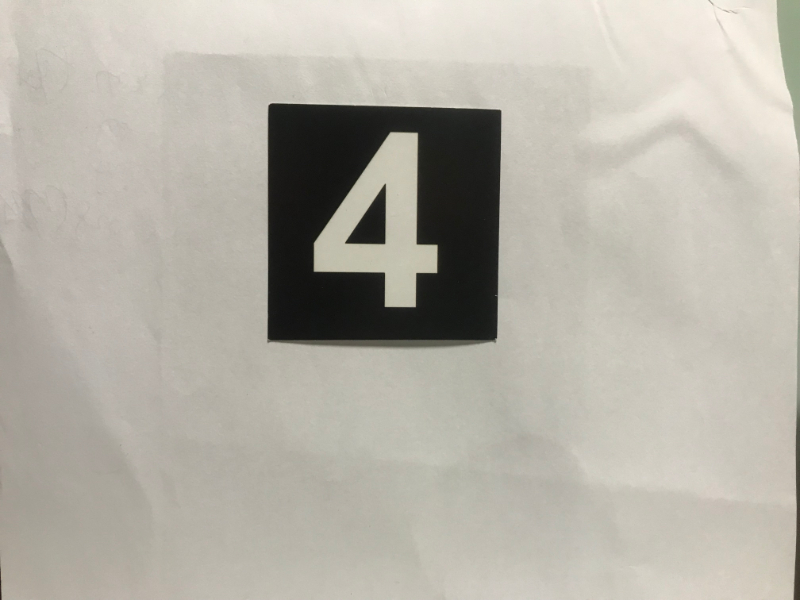Four-9: (275, 113, 494, 337)
